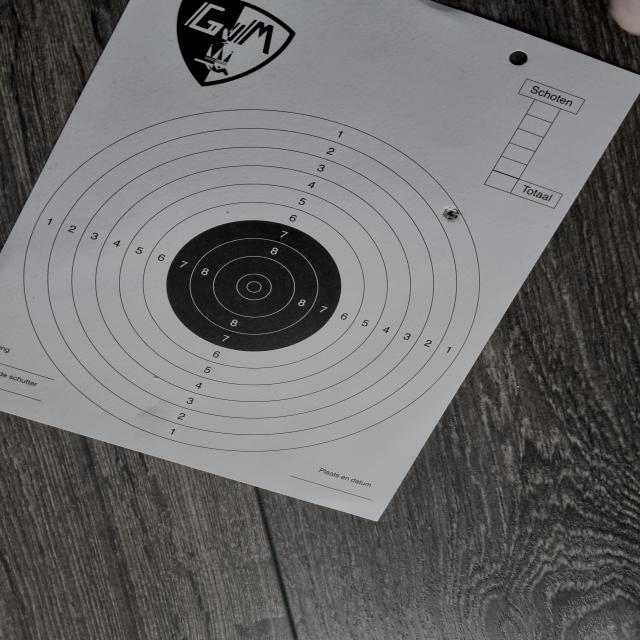1: (435, 204, 467, 226)
Target: (17, 109, 484, 457)
black_contour: (168, 221, 339, 353)
